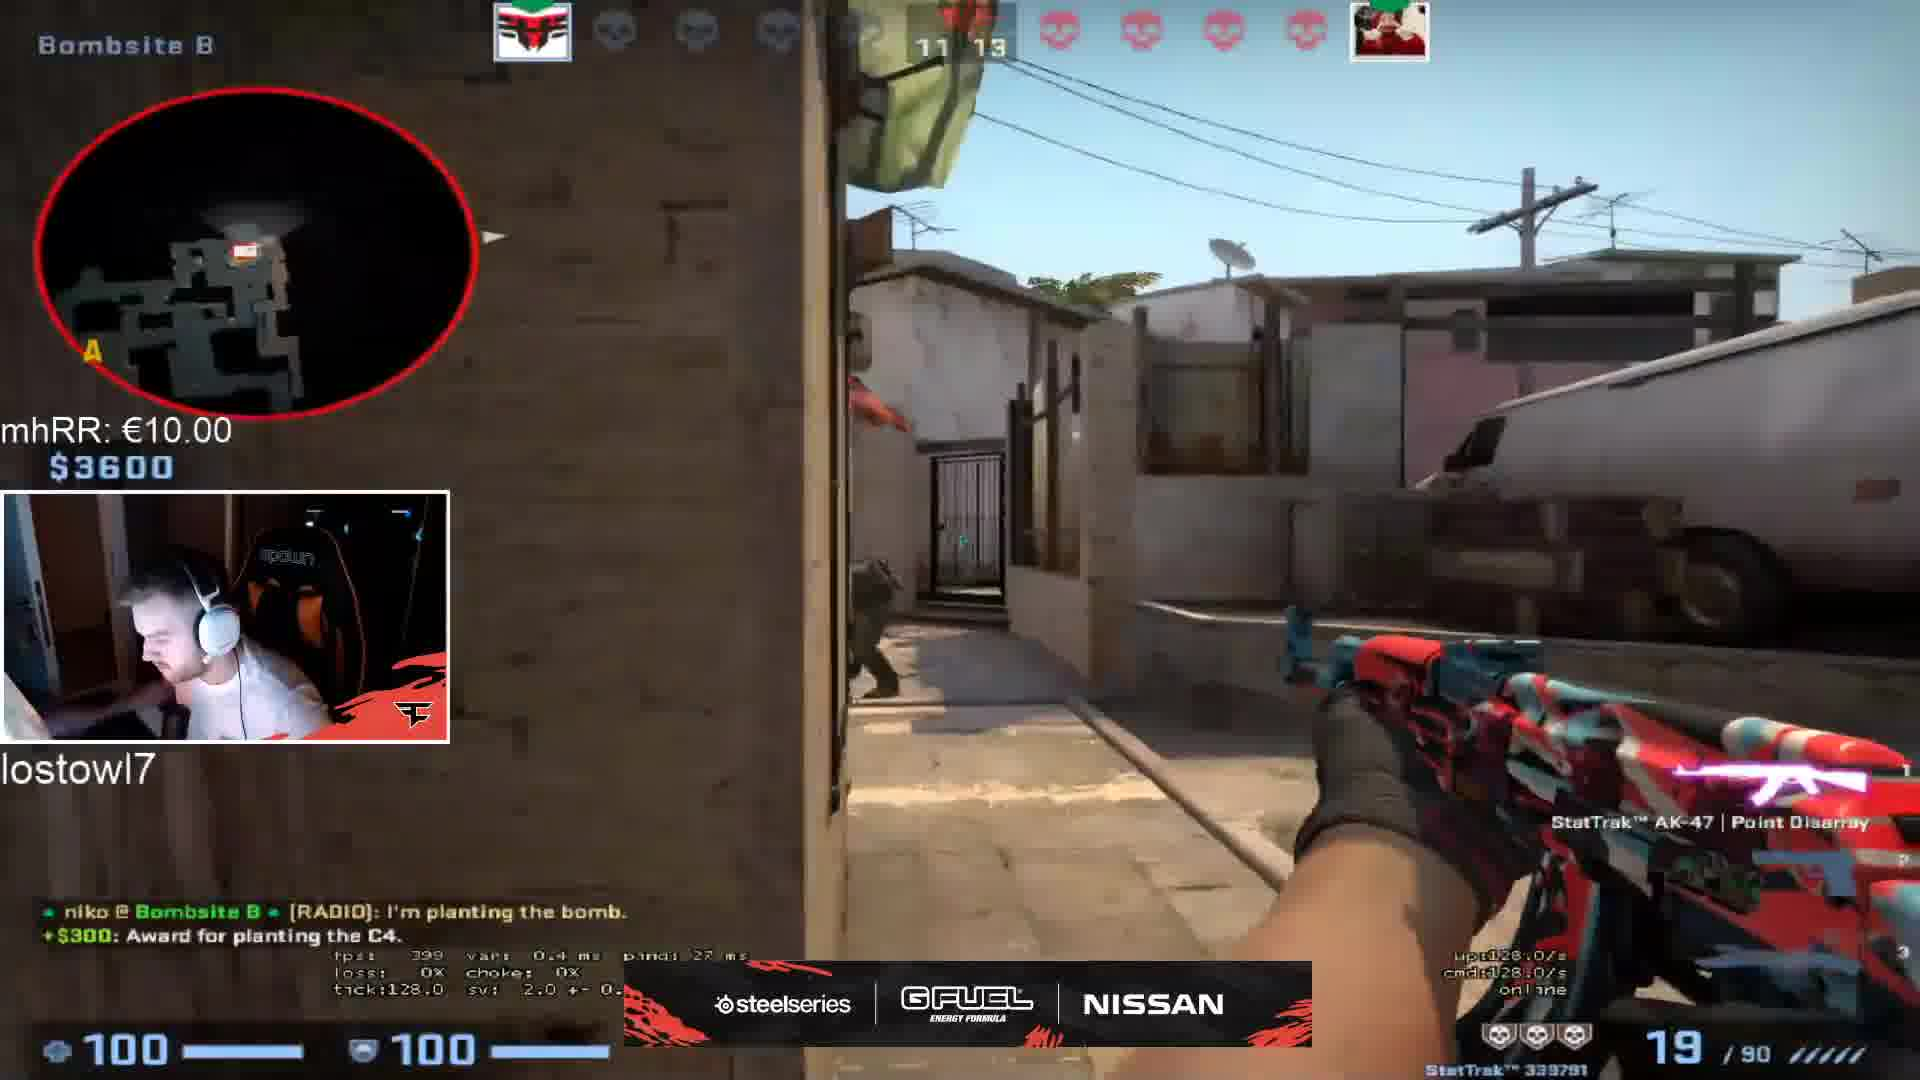enemy: (843, 554, 916, 709)
